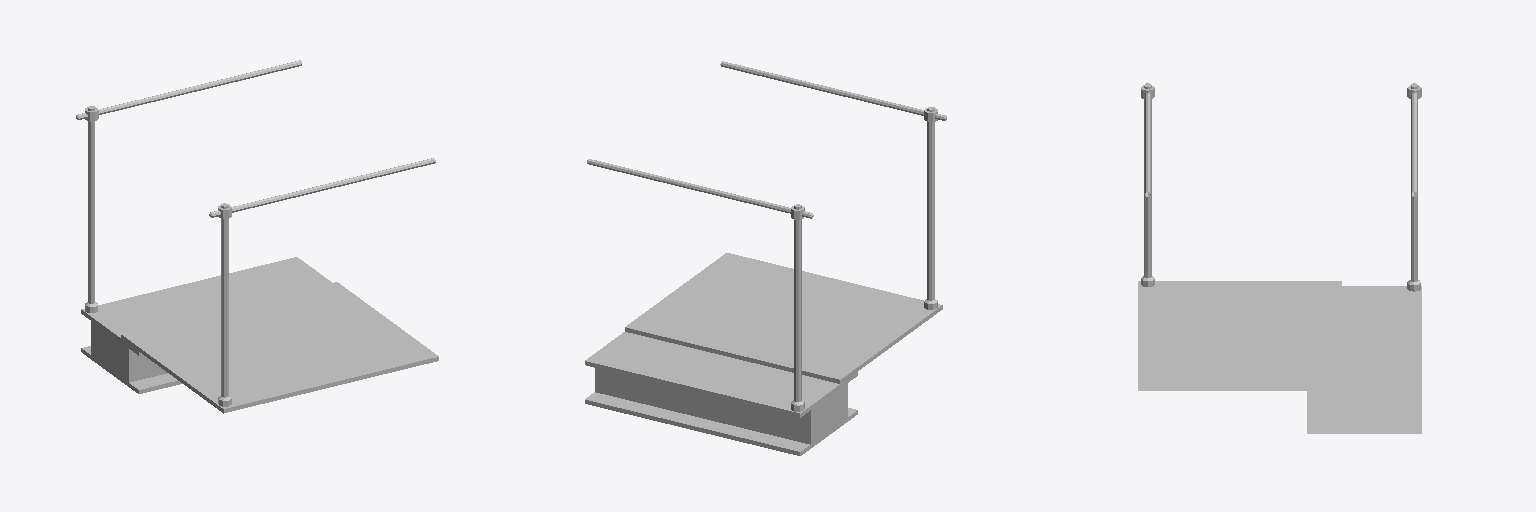
The model's file is lms_signal_gantry_platform_left.obj.
3 renders of one model, left to right at view 1: azimuth 30°, elevation 25°; view 2: azimuth 150°, elevation 25°; view 3: azimuth 270°, elevation 25°, orthographic.
Parts seen in each view (by area): view 1: Platform_Left_Cube.016; view 2: Platform_Left_Cube.016; view 3: Platform_Left_Cube.016.
Part boxes in pixels (bbox=[...]): Platform_Left_Cube.016: bbox=[76, 60, 438, 413]; Platform_Left_Cube.016: bbox=[585, 61, 946, 455]; Platform_Left_Cube.016: bbox=[1138, 83, 1421, 433].
Size of the model in its own units: 1.04 by 1.09 by 1.14.